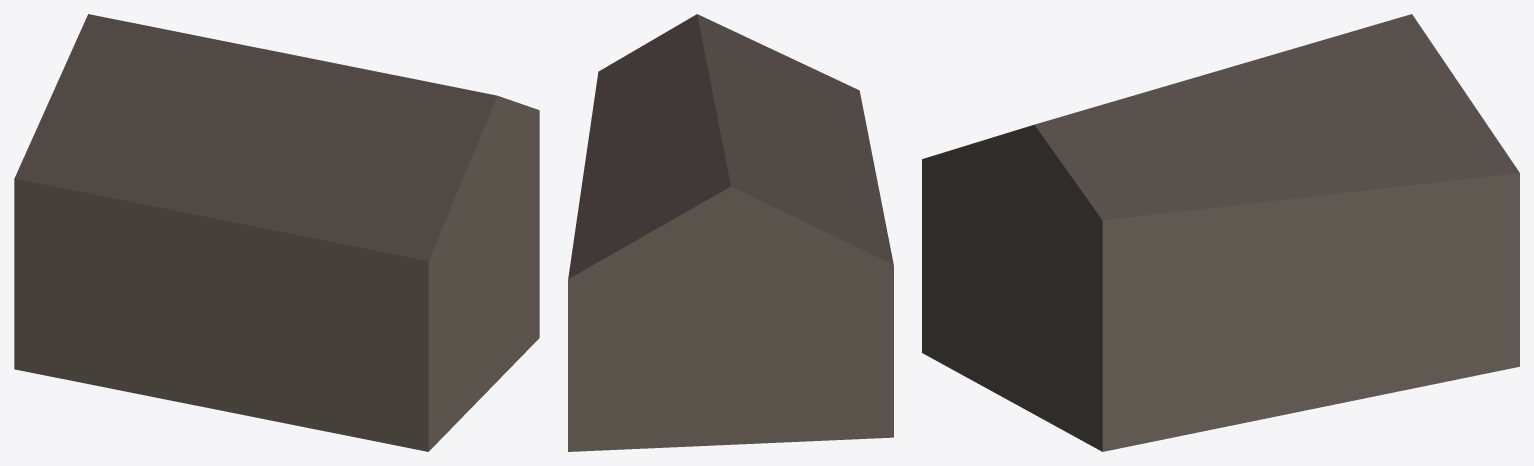
3 renders of one model, left to right at view 1: azimuth 30°, elevation 25°; view 2: azimuth 150°, elevation 25°; view 3: azimuth 270°, elevation 25°, orthographic. The views are drawn at different scales.
Parts seen in each view (by area): view 1: HP-w1513026730; view 2: HP-w1513026730; view 3: HP-w1513026730.
Part boxes in pixels (<box>): HP-w1513026730: <box>14,14,539,451</box>; HP-w1513026730: <box>568,14,893,451</box>; HP-w1513026730: <box>922,14,1519,451</box>.
Bounding box in the file's own units: 14.01 × 8.98 × 16.78.
